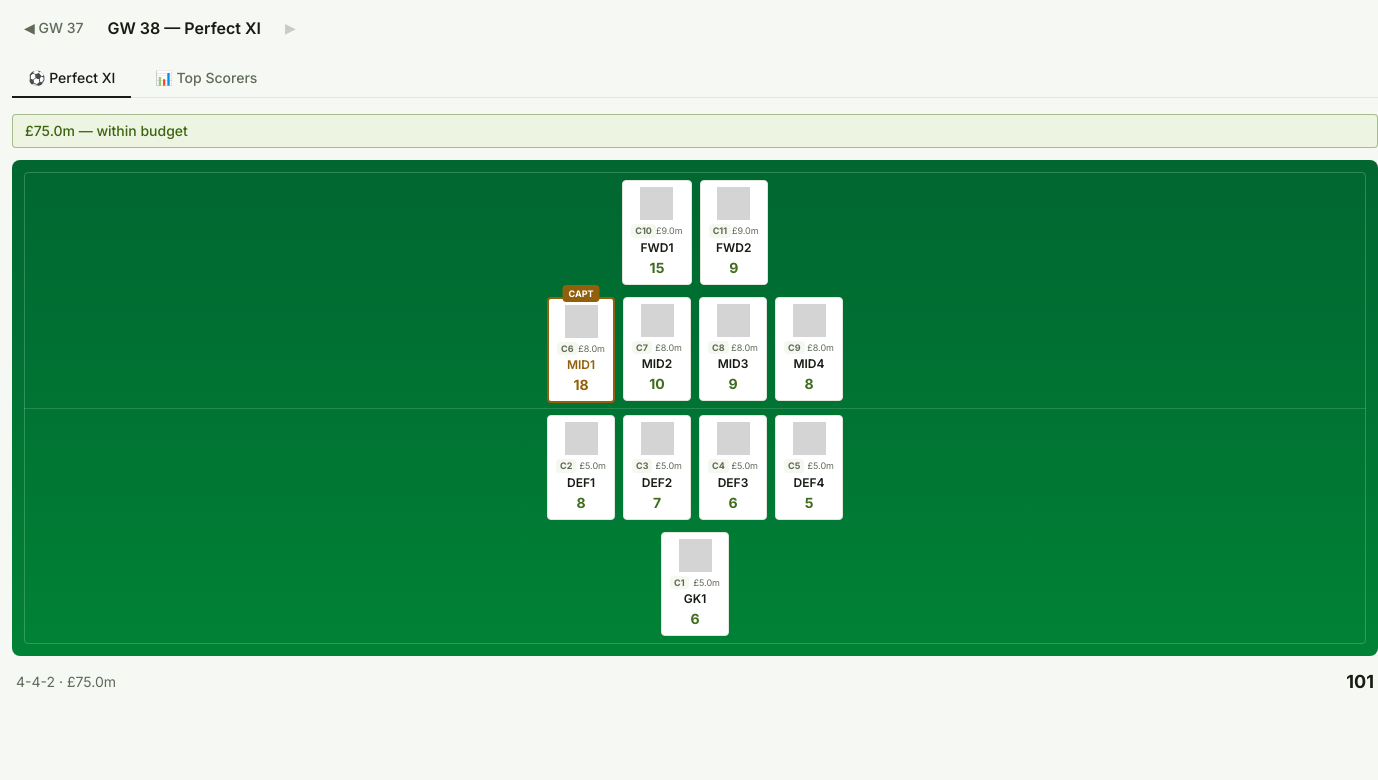
Test: PerfectGWTab › prev button is disabled on the first settled GW
// Navigate back to GW37 (earliest)
Click the button with aria-label "previous gameweek": (54, 28) [12,12,96,44]
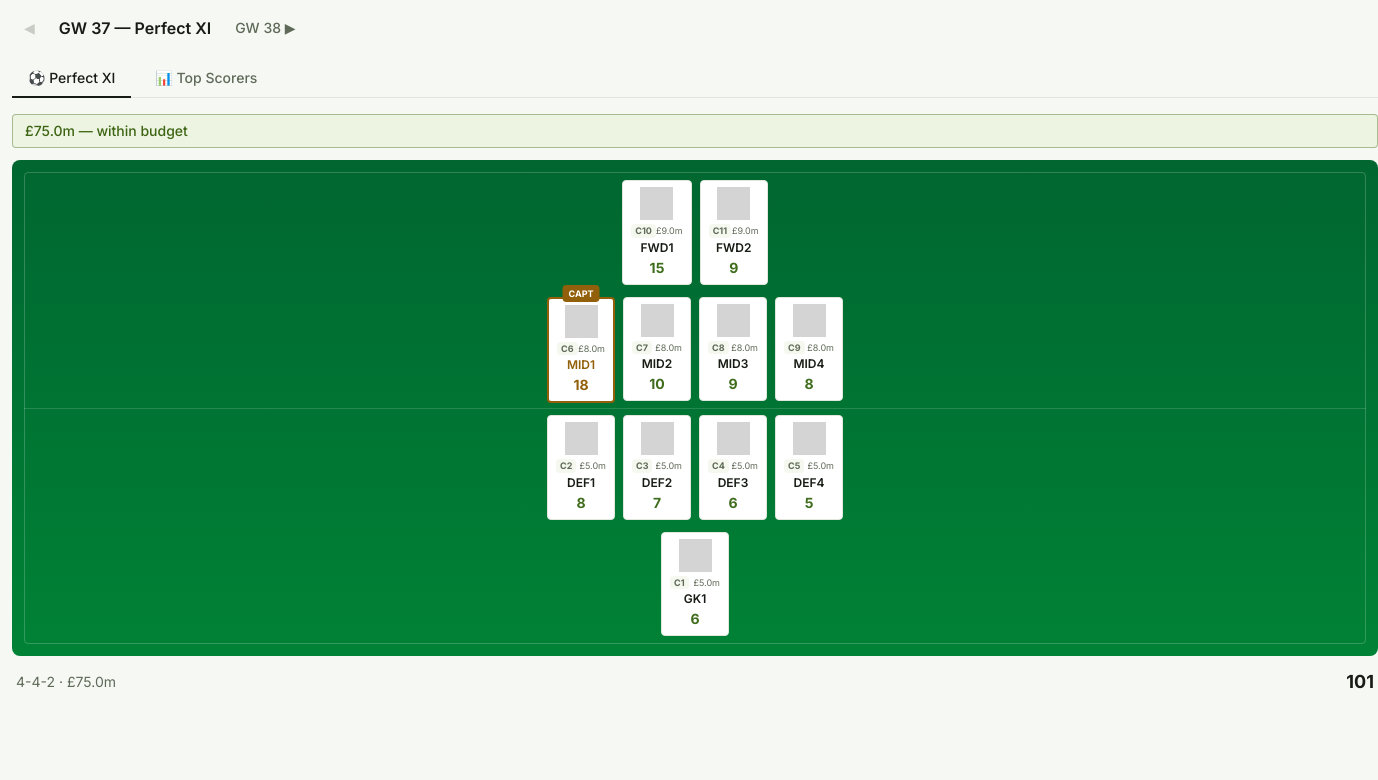
Now the button named "previous gameweek" is disabled, box [12,12,47,44]
